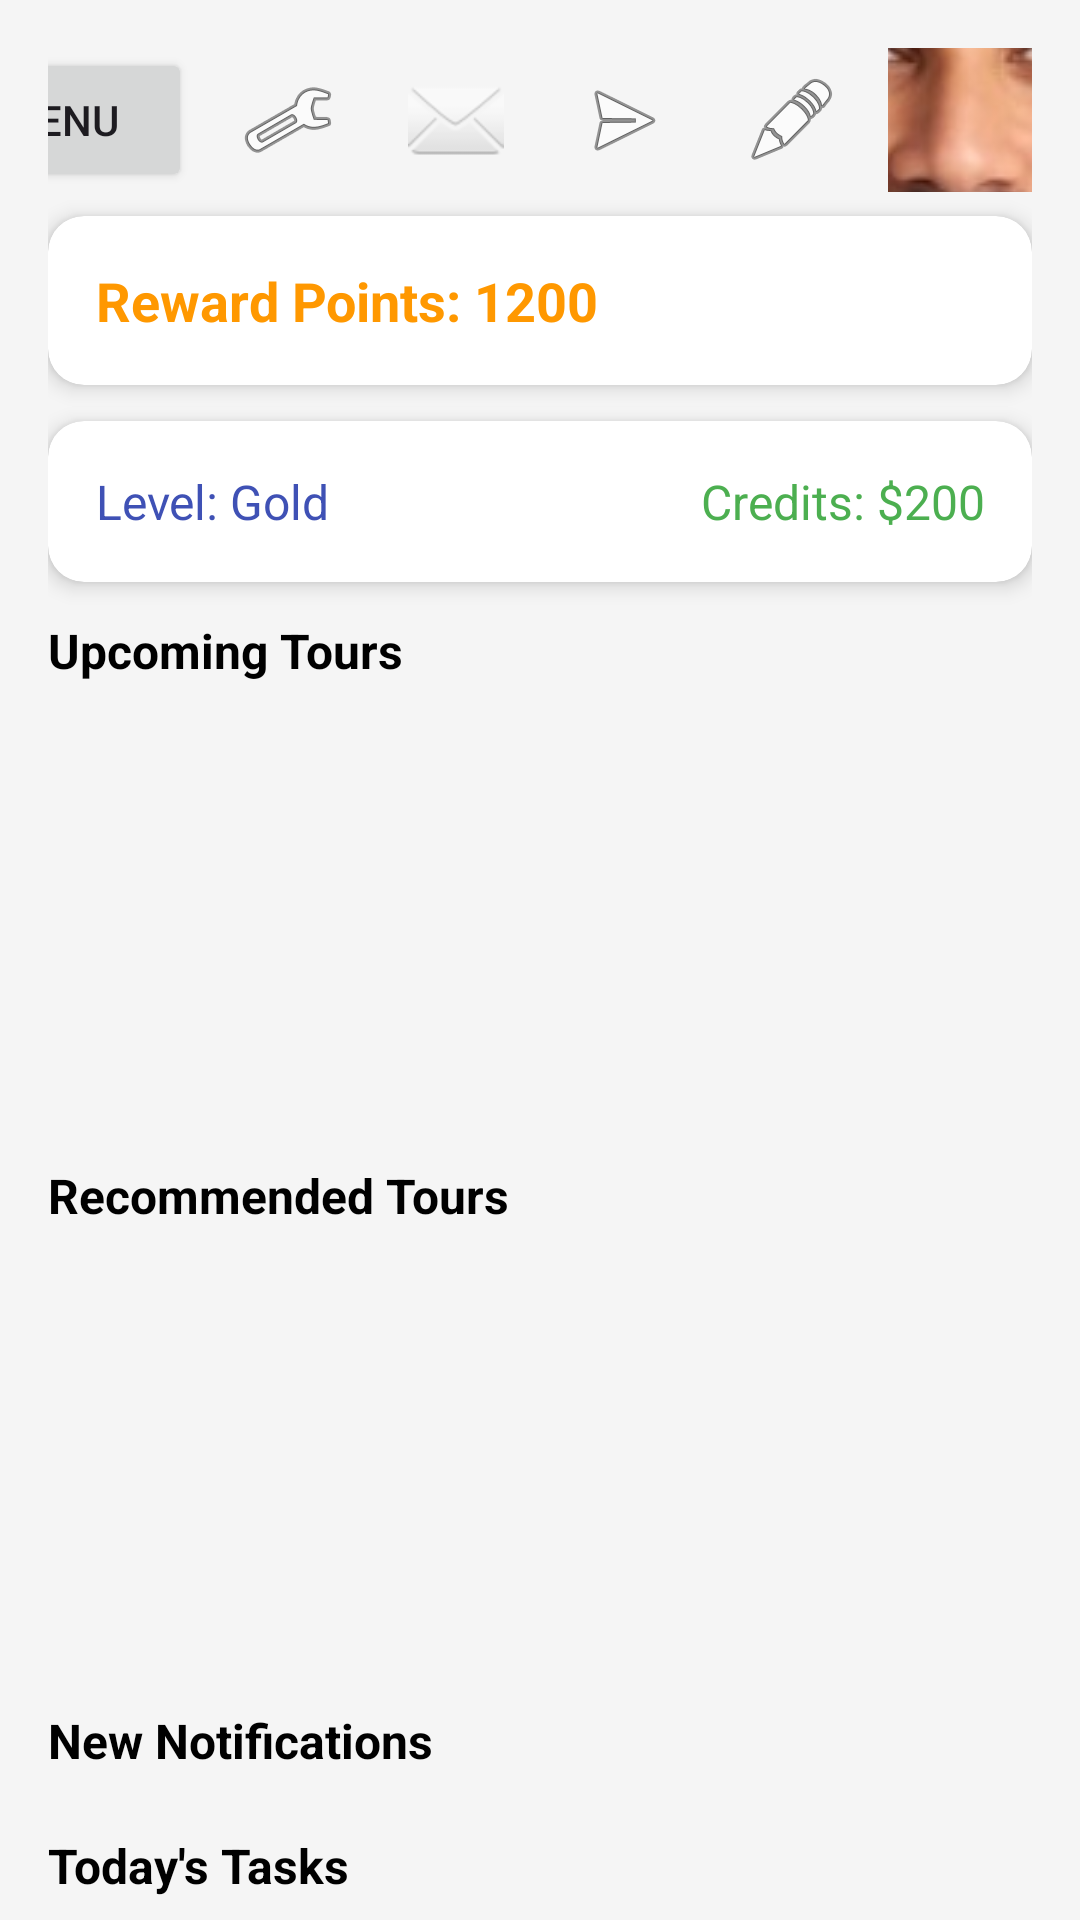

Icons on this 1080w x 1920h Android screen, each with its box as detection(x1, y1, x2, y2):
Feedback: detection(751, 79, 832, 160)
Settings: detection(245, 87, 331, 153)
